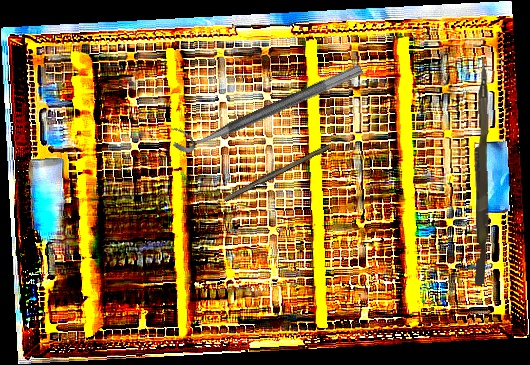Fixation Ring: (166, 48, 365, 158)
Pusher: (471, 57, 492, 285)
Scalpel Handle: (222, 141, 331, 204)
